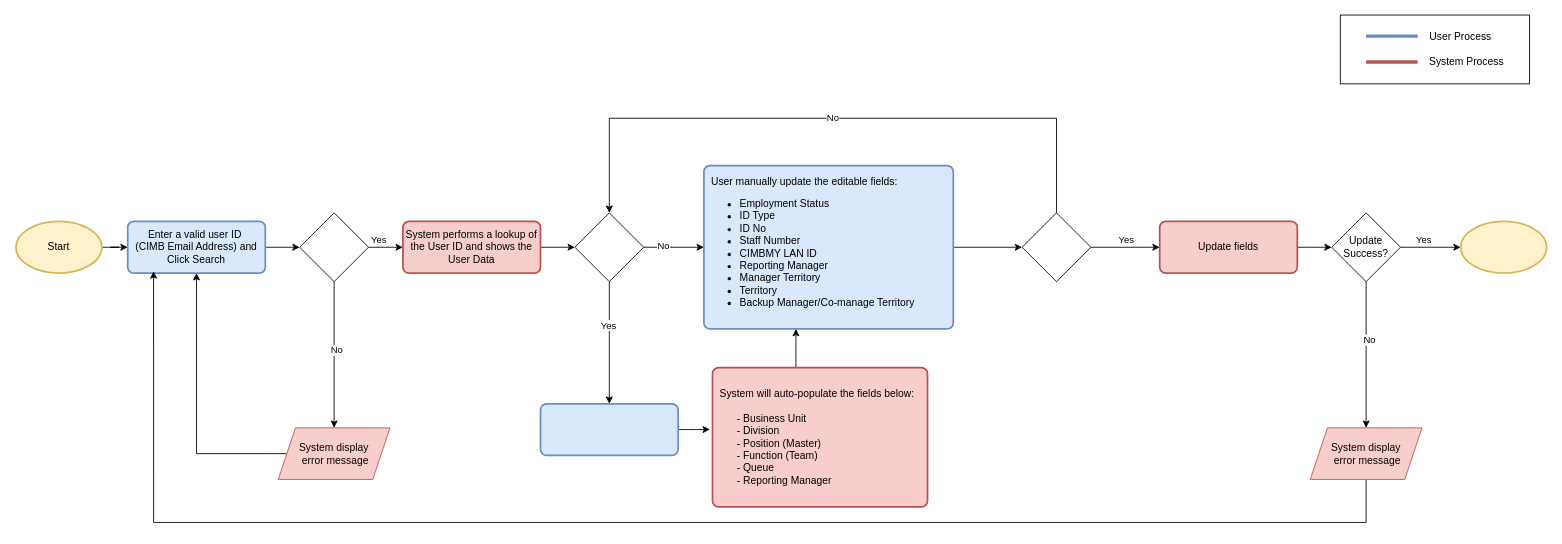
This 1562x544 diagram has some shape labels left out. The shapes that lost their labels are listed below. From the top down, each one's centre as x and y in pixels, then its label:
(x=334, y=247): User exists?
(x=609, y=247): Update identifier?
(x=1056, y=247): Save changes?
(x=1503, y=246): End
(x=609, y=429): User select the identifier
